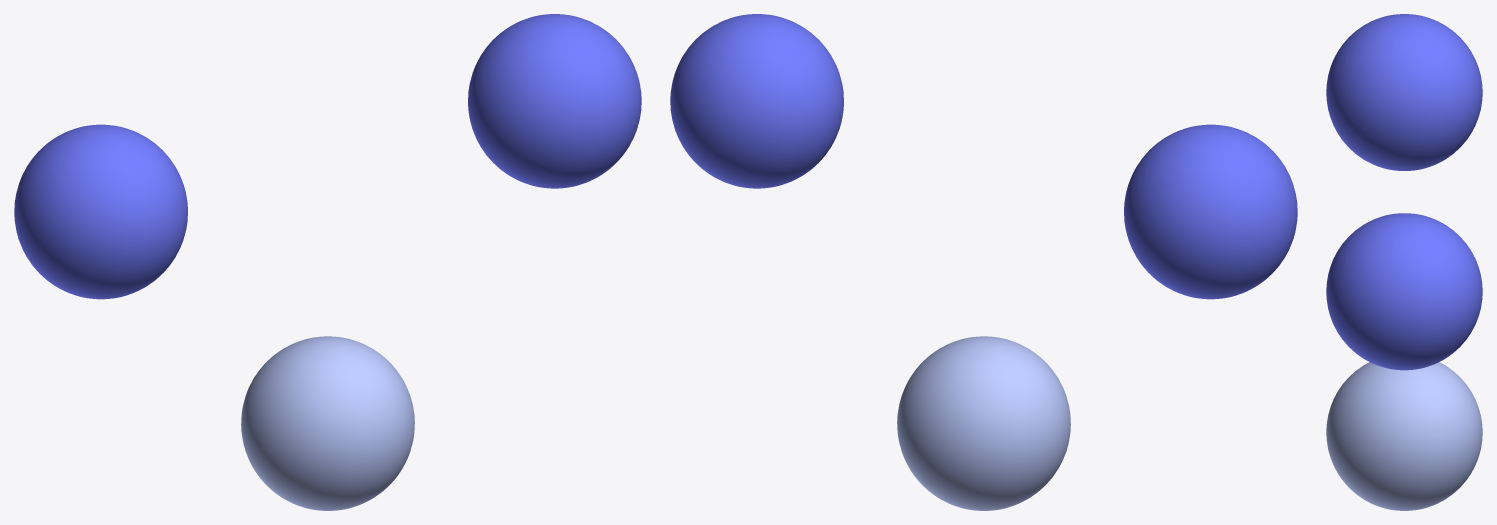
The model's file is triple-dots-loading-animated-3d-icon-286823006112.glb.
3 renders of one model, left to right at view 1: azimuth 30°, elevation 25°; view 2: azimuth 150°, elevation 25°; view 3: azimuth 270°, elevation 25°, orthographic. The views are drawn at different scales.
Visible parts, largest first — view 1: Sphere.009, Sphere.010, Sphere.008; view 2: Sphere.009, Sphere.010, Sphere.008; view 3: Sphere.010, Sphere.009, Sphere.008.
Boxes of the visible parts, bbox=[...] form: Sphere.009: bbox=[14, 124, 187, 299]; Sphere.010: bbox=[468, 14, 641, 188]; Sphere.008: bbox=[241, 336, 414, 510]; Sphere.009: bbox=[1124, 124, 1297, 299]; Sphere.010: bbox=[670, 14, 843, 188]; Sphere.008: bbox=[897, 336, 1070, 510]; Sphere.010: bbox=[1326, 213, 1482, 370]; Sphere.009: bbox=[1326, 14, 1482, 170]; Sphere.008: bbox=[1326, 362, 1482, 510].
Bounding box in the file's own units: 2.13 × 1.44 × 0.531.
